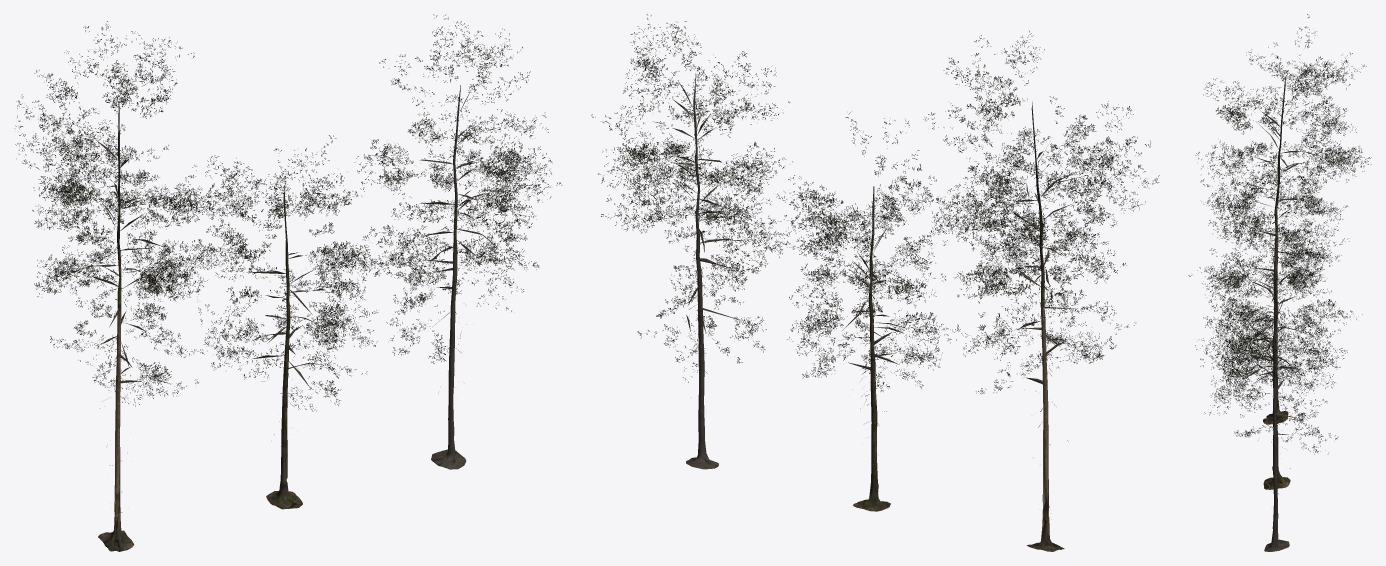
Rendered from pine_tree_01.glb.
The picture shows the model from 3 angles, left to right: view 1: azimuth 30°, elevation 25°; view 2: azimuth 150°, elevation 25°; view 3: azimuth 270°, elevation 25°; orthographic projection. The views are drawn at different scales.
Parts seen in each view (by area): view 1: pine_tree_01_a_LOD0, pine_tree_01_c_LOD0, pine_tree_01_b_LOD0; view 2: pine_tree_01_a_LOD0, pine_tree_01_c_LOD0, pine_tree_01_b_LOD0; view 3: pine_tree_01_a_LOD0, pine_tree_01_c_LOD0, pine_tree_01_b_LOD0.
Boxes of the visible parts, left/top/right/bottom form: pine_tree_01_a_LOD0: left=14, top=14, right=562, bottom=551; pine_tree_01_c_LOD0: left=431, top=85, right=466, bottom=469; pine_tree_01_b_LOD0: left=266, top=192, right=302, bottom=509; pine_tree_01_a_LOD0: left=591, top=14, right=1159, bottom=551; pine_tree_01_c_LOD0: left=686, top=75, right=718, bottom=469; pine_tree_01_b_LOD0: left=853, top=186, right=890, bottom=511; pine_tree_01_a_LOD0: left=1188, top=14, right=1371, bottom=493; pine_tree_01_c_LOD0: left=1264, top=253, right=1289, bottom=551; pine_tree_01_b_LOD0: left=1263, top=238, right=1290, bottom=489.
Bounding box in the file's own units: 21.73 × 20.32 × 8.4.
Materials: 6 (6 with a texture image).
